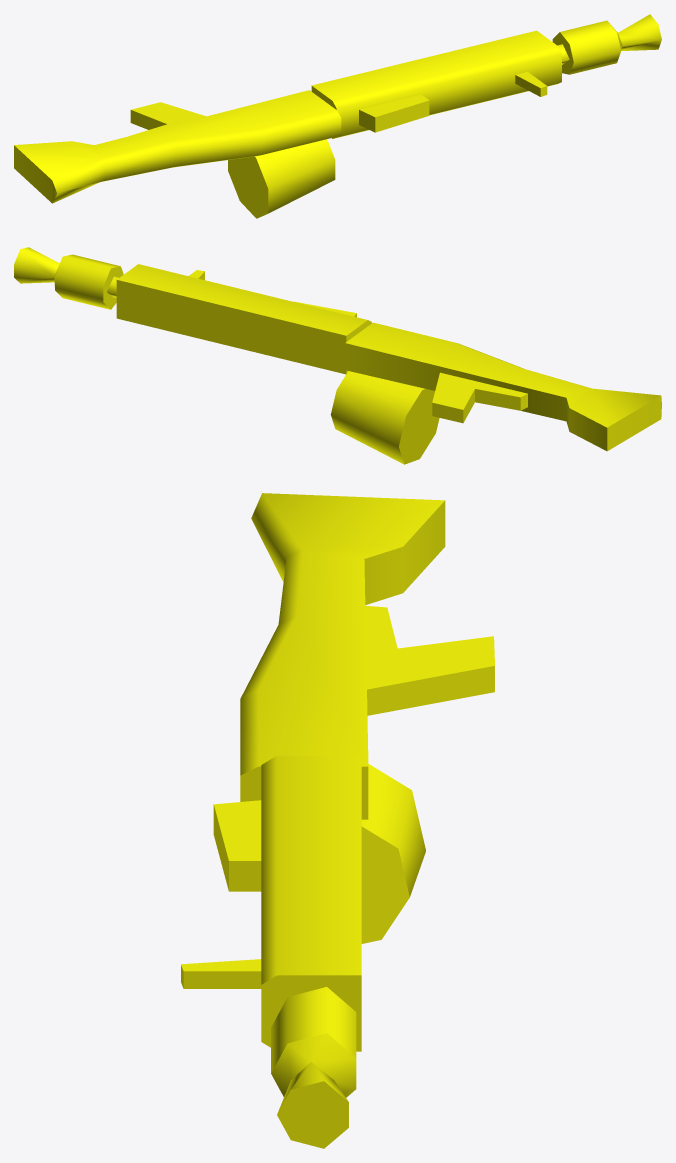
Rendered from weapon_mg42.glb.
3 views of the same model, one above another, from view 1: azimuth 30°, elevation 25°; view 2: azimuth 150°, elevation 25°; view 3: azimuth 270°, elevation 25° (orthographic). The views are drawn at different scales.
Visible parts, largest first — view 1: weapon_mg42; view 2: weapon_mg42; view 3: weapon_mg42.
Part boxes in pixels (<box>): weapon_mg42: <box>14,14,661,218</box>; weapon_mg42: <box>14,247,661,464</box>; weapon_mg42: <box>181,493,494,1148</box>.
Bounding box in the file's own units: 2.4 × 0.4219 × 0.5314.
1 material, 1 textured.
